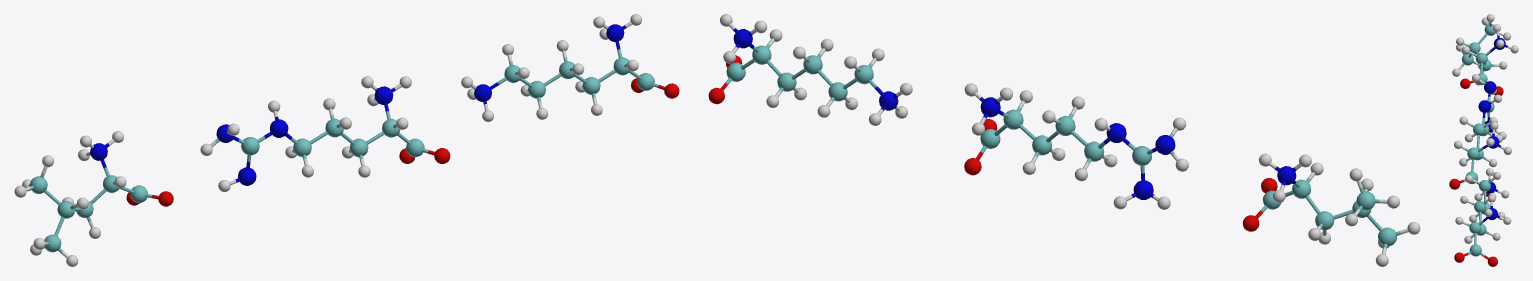
File: Aminoacidos.fbx
The picture shows the model from 3 angles, left to right: view 1: azimuth 30°, elevation 25°; view 2: azimuth 150°, elevation 25°; view 3: azimuth 270°, elevation 25°; orthographic projection. The views are drawn at different scales.
Parts seen in each view (by area): view 1: arginina, lisina, leucina; view 2: arginina, lisina, leucina; view 3: arginina, lisina, leucina.
Part boxes in pixels (box(x1,y1,x2,y2)): arginina: box(200, 76, 450, 191); lisina: box(461, 14, 679, 121); leucina: box(14, 131, 173, 266); arginina: box(964, 83, 1188, 209); lisina: box(708, 14, 912, 125); leucina: box(1242, 153, 1420, 266); arginina: box(1449, 74, 1511, 196); lisina: box(1454, 168, 1511, 266); leucina: box(1452, 14, 1518, 95).
Size of the model in its own units: 465 by 68.75 by 64.09.
